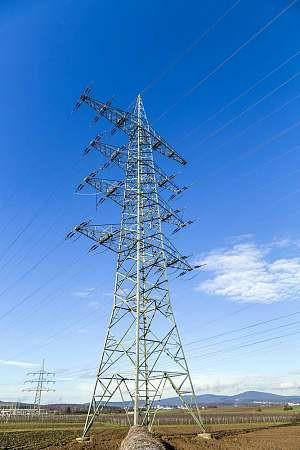power_tower: (73, 77, 199, 438)
